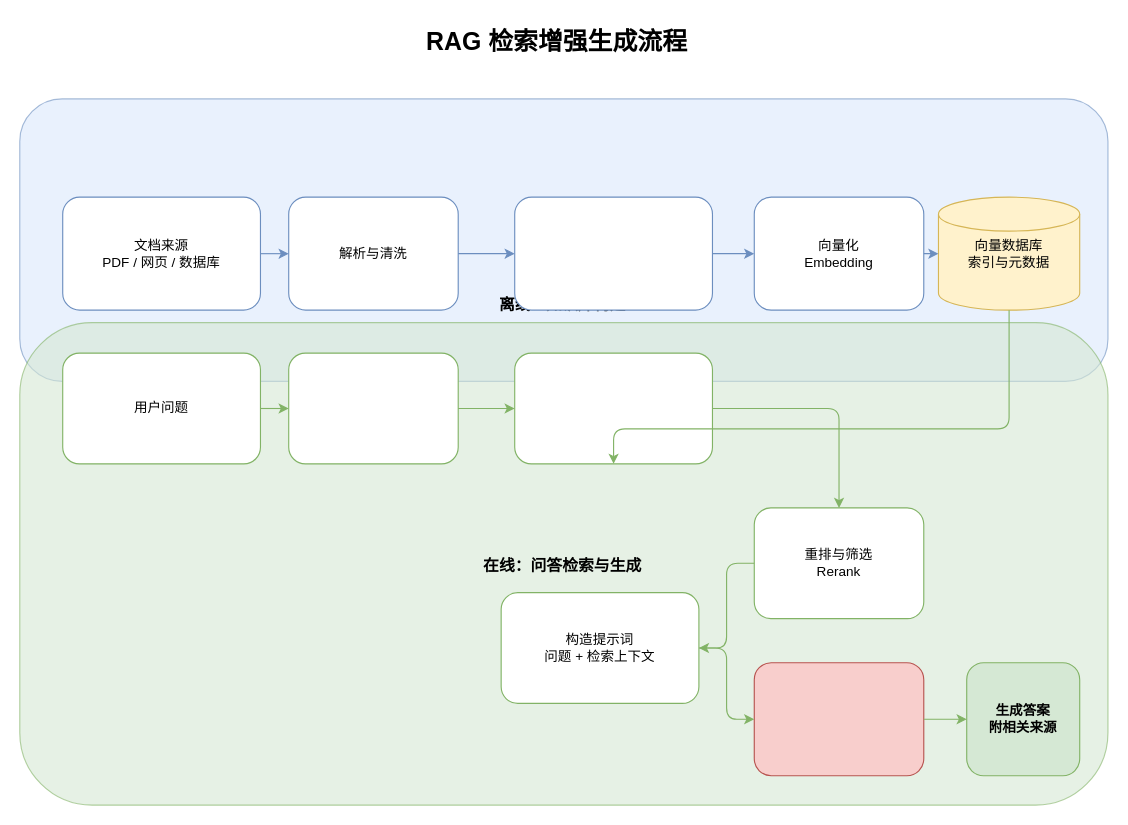
This 1128x825 diagram has some shape labels left out. Here are the shapes that lost their labels. From the top down, the box of each, then its label:
(514, 196, 712, 310): 切分文本 Chunks
(288, 352, 458, 464): 问题向量化
(514, 352, 712, 464): 相似度检索 Top-K 召回
(753, 662, 924, 776): 大语言模型
